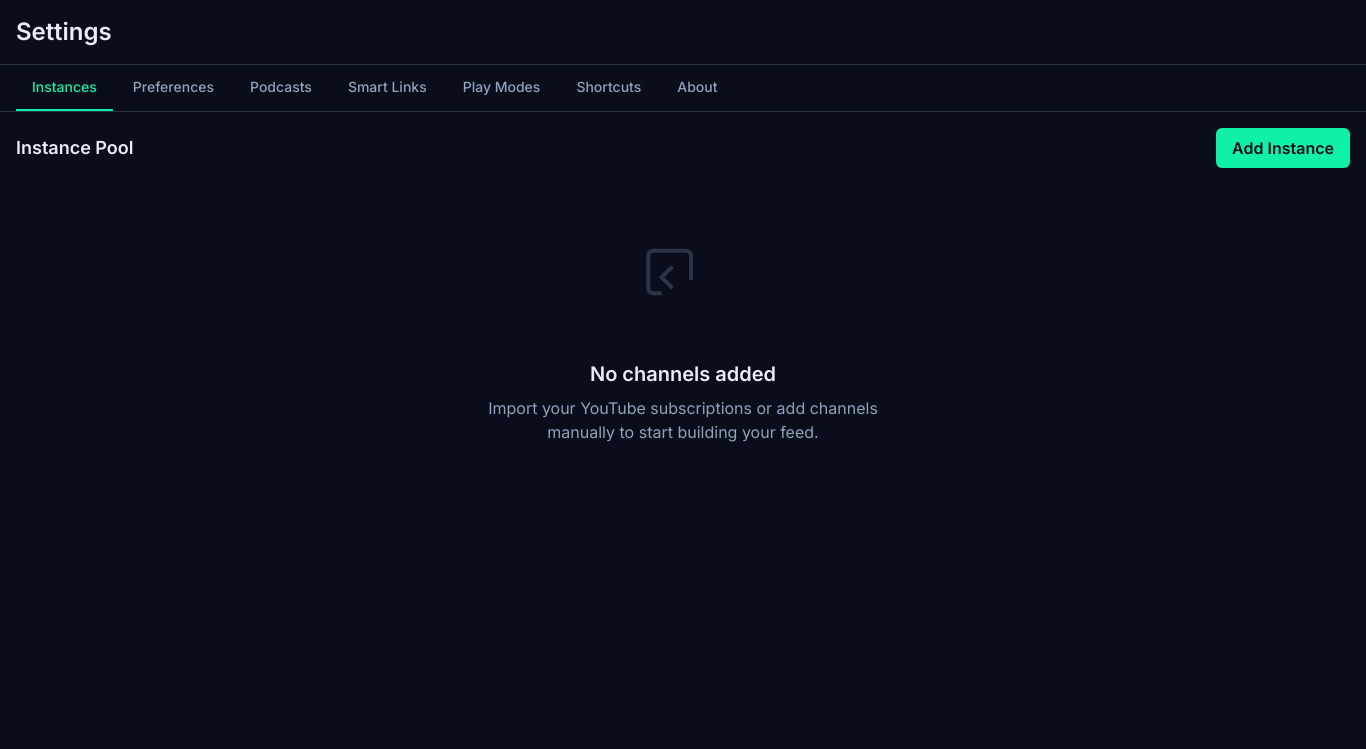
Test: Settings → Play Modes rule editor (D7) › offers only subscribed channels (unsubscribed are not editable)
Click the tab "Play Modes" at (502,88), box x1=447 y1=65 x2=556 y2=111
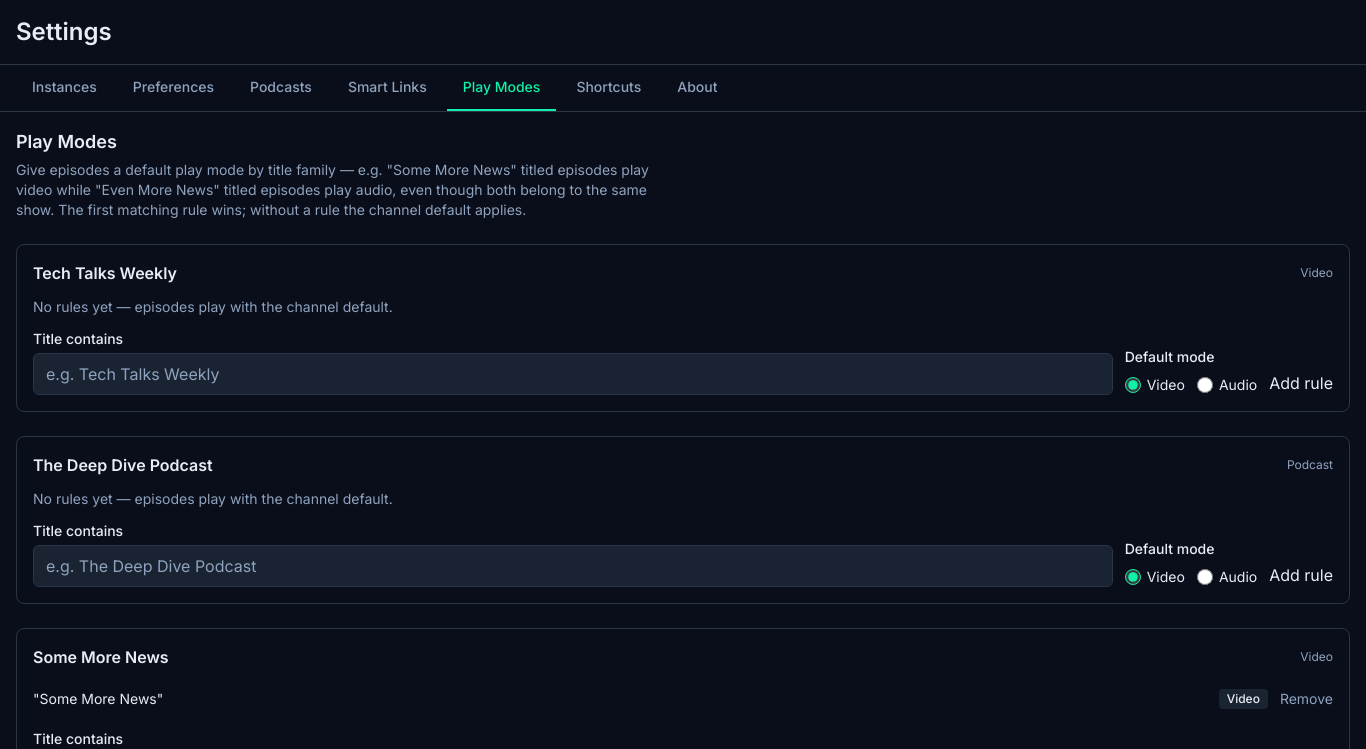
Expected: the element named "Play mode rules for Tech Talks Weekly" is shown, x1=16 y1=244 x2=1350 y2=412
